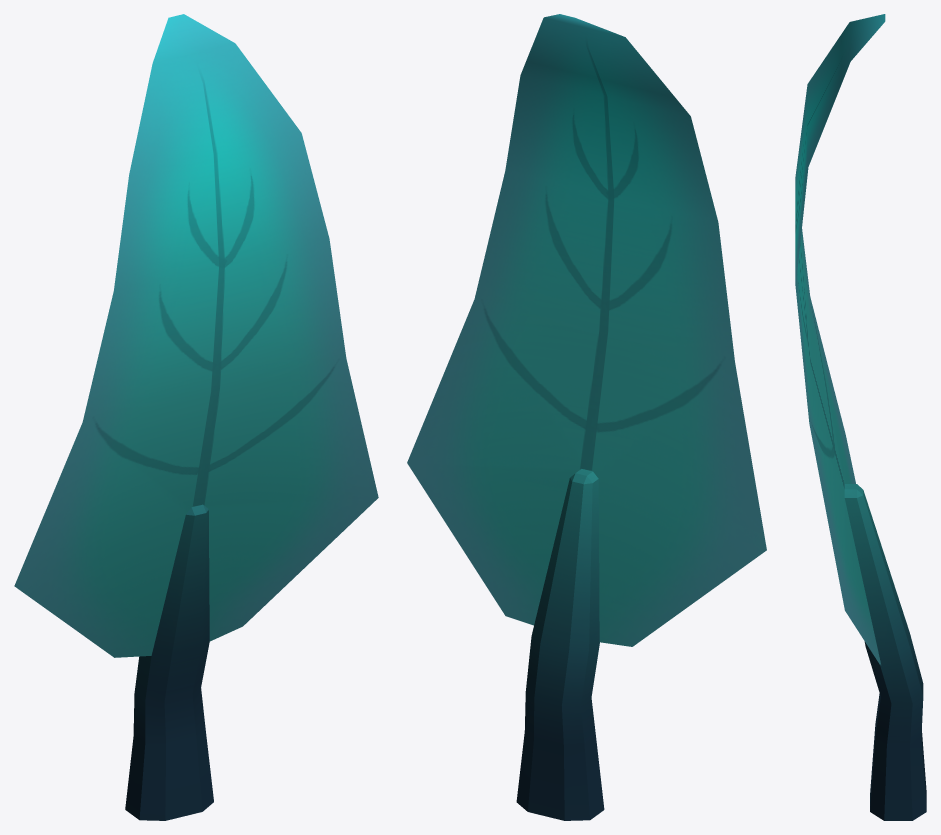
Rendered from Plante_1.fbx.
3 views of the same model, side by side, from view 1: azimuth 30°, elevation 25°; view 2: azimuth 150°, elevation 25°; view 3: azimuth 270°, elevation 25° (orthographic).
Parts seen in each view (by area): view 1: polySurface9; view 2: polySurface9; view 3: polySurface9.
Part boxes in pixels (<box>): polySurface9: <box>14,14,378,820</box>; polySurface9: <box>407,14,766,820</box>; polySurface9: <box>795,14,926,820</box>.
Bounding box in the file's own units: 3.44 × 7.19 × 1.09.
